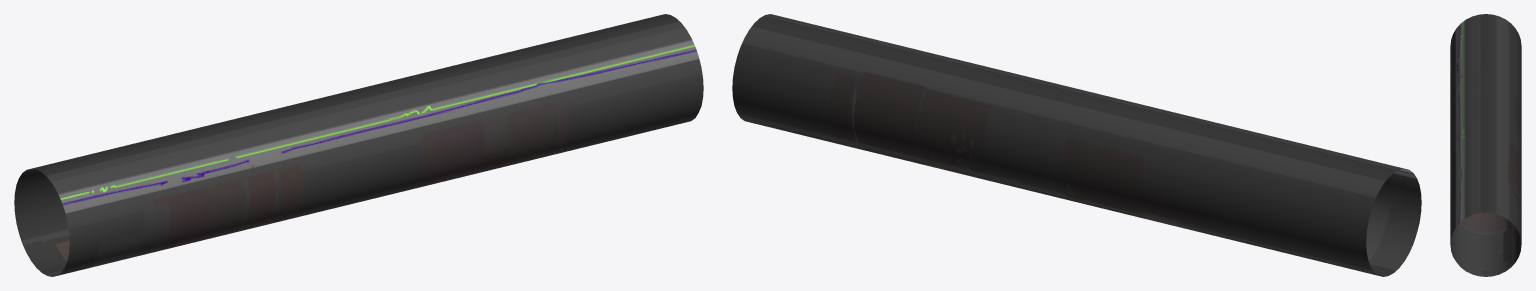
Rendered from SM_Pipe_Long.fbx.
3 renders of one model, left to right at view 1: azimuth 30°, elevation 25°; view 2: azimuth 150°, elevation 25°; view 3: azimuth 270°, elevation 25°, orthographic. The views are drawn at different scales.
Visible parts, largest first — view 1: SM_Pipe_Long; view 2: SM_Pipe_Long; view 3: SM_Pipe_Long.
Boxes of the visible parts, <box> form: SM_Pipe_Long: <box>14,14,703,276</box>; SM_Pipe_Long: <box>732,14,1421,276</box>; SM_Pipe_Long: <box>1450,14,1521,276</box>.
Size of the model in its own units: 20 by 3.03 by 3.03.
